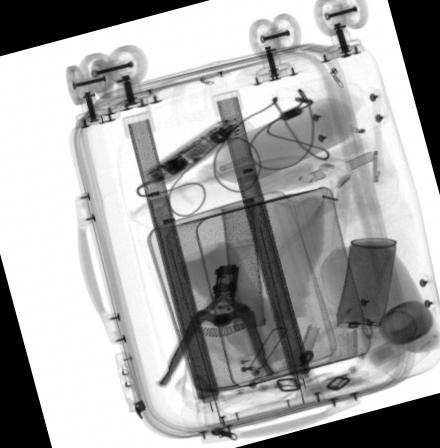Pliers: (153, 264, 277, 387)
